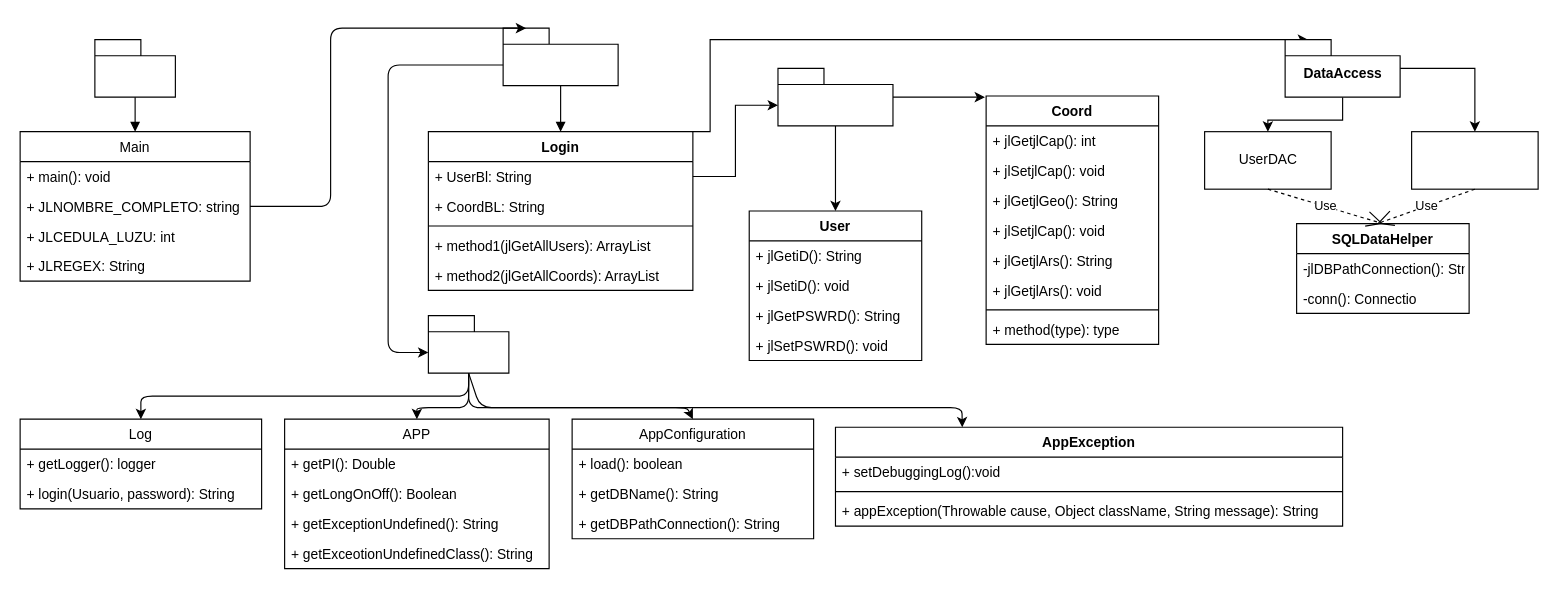
Some shapes in this 1558 by 592 pixel diagram are drawn without their labels. Here are the shapes that lost their labels. From the top down, the centre of each, then its label:
At point 134,68: "Examen 2B".
At point 560,56: "BusinessLogic".
At point 835,96: "Entities".
At point 1474,160: "CoordDac".
At point 468,344: "Framework".
